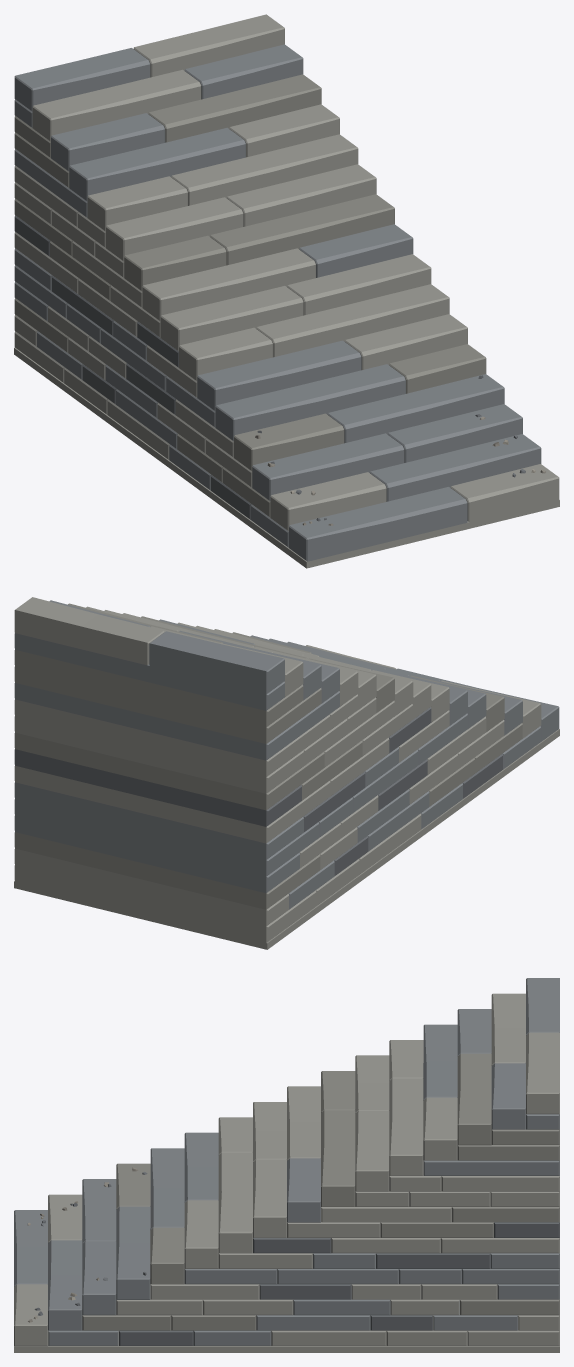
The model's file is SM_LPD_Struct_StairFlight_01.fbx.
3 views of the same model, one above another, from view 1: azimuth 30°, elevation 25°; view 2: azimuth 150°, elevation 25°; view 3: azimuth 270°, elevation 25° (orthographic). The views are drawn at different scales.
Visible parts, largest first — view 1: SM_LPD_Struct_StairFlight_01; view 2: SM_LPD_Struct_StairFlight_01; view 3: SM_LPD_Struct_StairFlight_01.
Part boxes in pixels (left/top/right/bottom): SM_LPD_Struct_StairFlight_01: left=14, top=14, right=559, bottom=568; SM_LPD_Struct_StairFlight_01: left=14, top=597, right=559, bottom=949; SM_LPD_Struct_StairFlight_01: left=14, top=978, right=559, bottom=1352.
Size of the model in its own units: 4 by 4.2 by 8.
